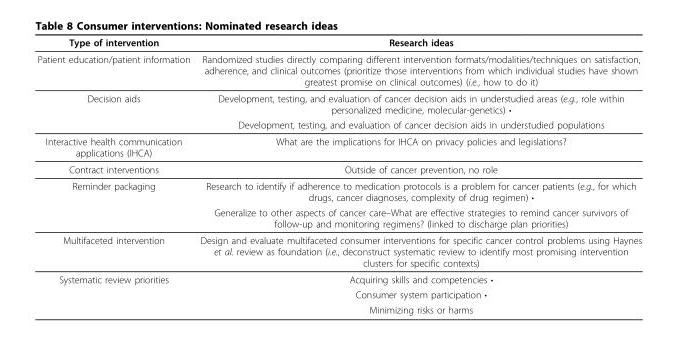table: (36, 36, 641, 314)
table column: (194, 36, 641, 314), (36, 36, 194, 314)
table column header: (36, 36, 641, 50)
table row: (36, 50, 641, 89), (36, 231, 641, 270), (36, 132, 641, 160), (36, 89, 641, 116), (36, 177, 641, 204), (36, 204, 641, 231), (36, 160, 641, 177), (36, 116, 641, 132), (36, 270, 641, 286), (36, 286, 641, 301), (36, 36, 641, 50), (36, 301, 641, 314)
table spanning cell: (36, 177, 194, 231), (36, 270, 194, 314), (36, 89, 194, 132)
